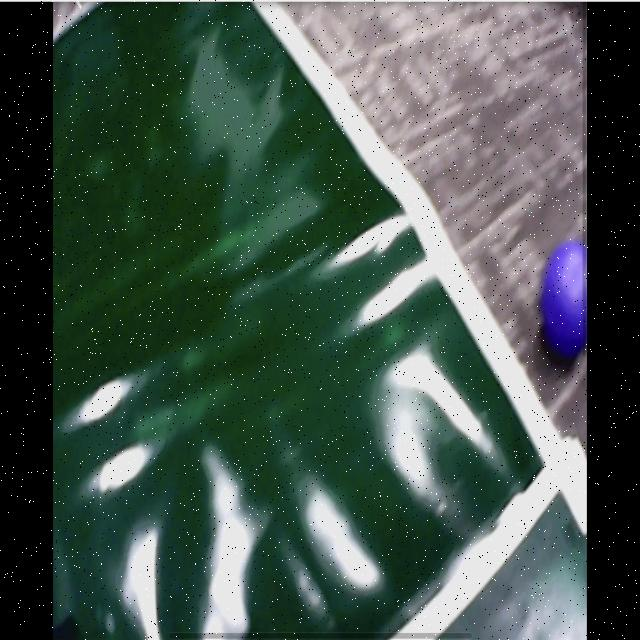ball: (542, 243, 588, 359)
